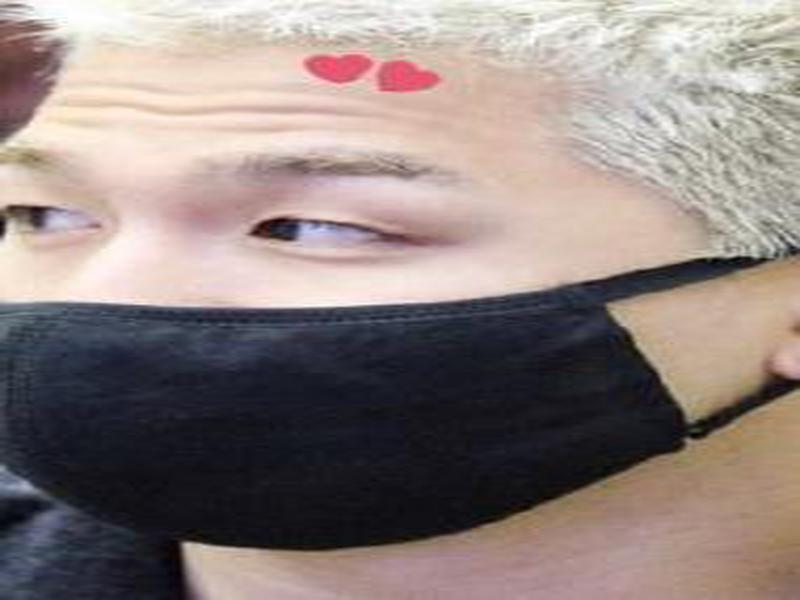with_mask: (1, 1, 797, 562)
